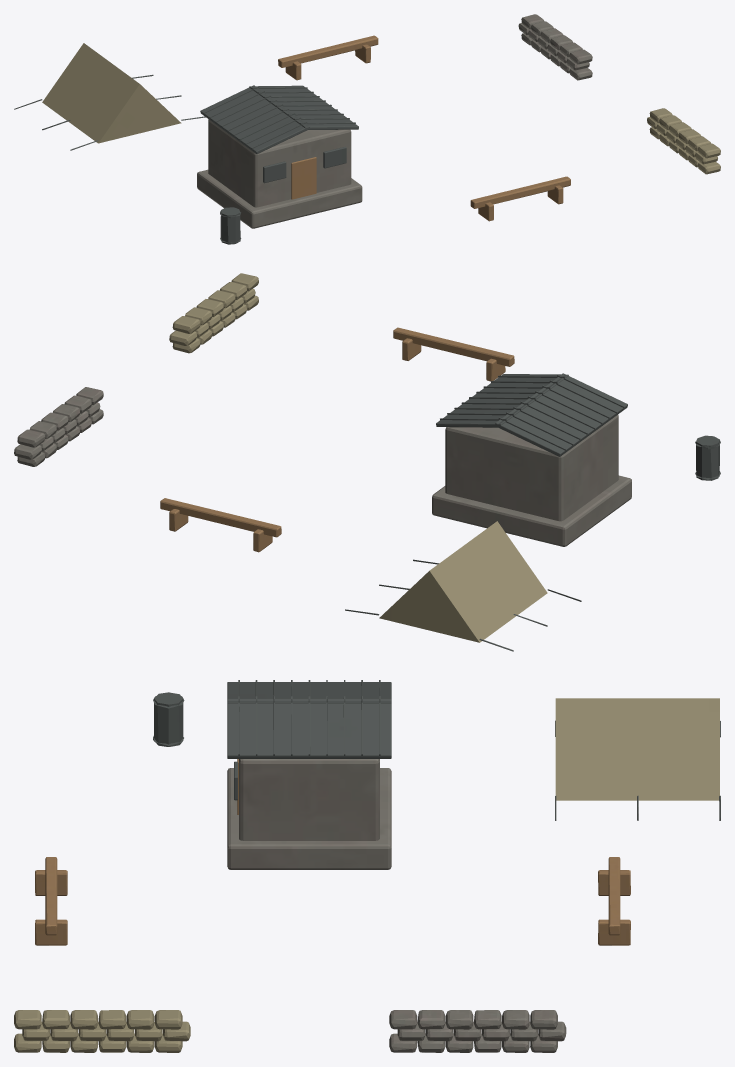
File: hollow-lod1.glb
3 renders of one model, top to bottom at view 1: azimuth 30°, elevation 25°; view 2: azimuth 150°, elevation 25°; view 3: azimuth 270°, elevation 25°, orthographic. The views are drawn at different scales.
Parts seen in each view (by area): view 1: hollow_hut_0.001, hollow_small_tent_5.001, hollow_breastwork_4.001, hollow_sandbags_3.001, hollow_barrier_2.001, hollow_barrier_1.001, hollow_drum_6.001; view 2: hollow_hut_0.001, hollow_small_tent_5.001, hollow_breastwork_4.001, hollow_sandbags_3.001, hollow_barrier_2.001, hollow_barrier_1.001, hollow_drum_6.001; view 3: hollow_hut_0.001, hollow_small_tent_5.001, hollow_breastwork_4.001, hollow_sandbags_3.001, hollow_barrier_2.001, hollow_barrier_1.001, hollow_drum_6.001.
Boxes of the visible parts, x1,y1,x2,y2 form: hollow_hut_0.001: [197, 85, 362, 228]; hollow_small_tent_5.001: [14, 43, 205, 150]; hollow_breastwork_4.001: [518, 14, 592, 80]; hollow_sandbags_3.001: [647, 108, 720, 174]; hollow_barrier_2.001: [278, 35, 378, 80]; hollow_barrier_1.001: [470, 176, 570, 221]; hollow_drum_6.001: [220, 207, 241, 244]; hollow_hut_0.001: [432, 373, 631, 546]; hollow_small_tent_5.001: [345, 521, 581, 651]; hollow_breastwork_4.001: [14, 387, 103, 466]; hollow_sandbags_3.001: [169, 273, 258, 353]; hollow_barrier_2.001: [160, 498, 281, 552]; hollow_barrier_1.001: [393, 327, 514, 381]; hollow_drum_6.001: [695, 435, 720, 480]; hollow_hut_0.001: [227, 680, 391, 869]; hollow_small_tent_5.001: [555, 698, 720, 820]; hollow_breastwork_4.001: [389, 1010, 566, 1052]; hollow_sandbags_3.001: [14, 1010, 190, 1052]; hollow_barrier_2.001: [598, 857, 630, 945]; hollow_barrier_1.001: [35, 857, 67, 945]; hollow_drum_6.001: [153, 692, 184, 746].
Bounding box in the file's own units: 33.6 × 6.27 × 30.13.
4 materials, 4 textured.
